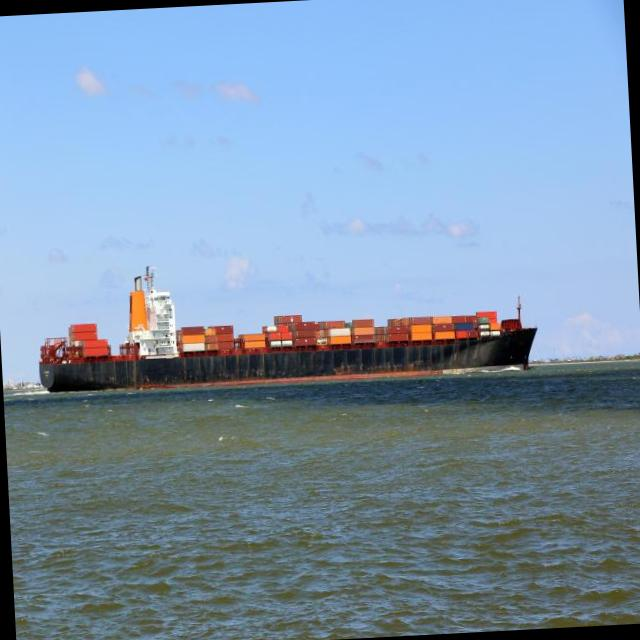Cargo: (39, 267, 535, 391)
